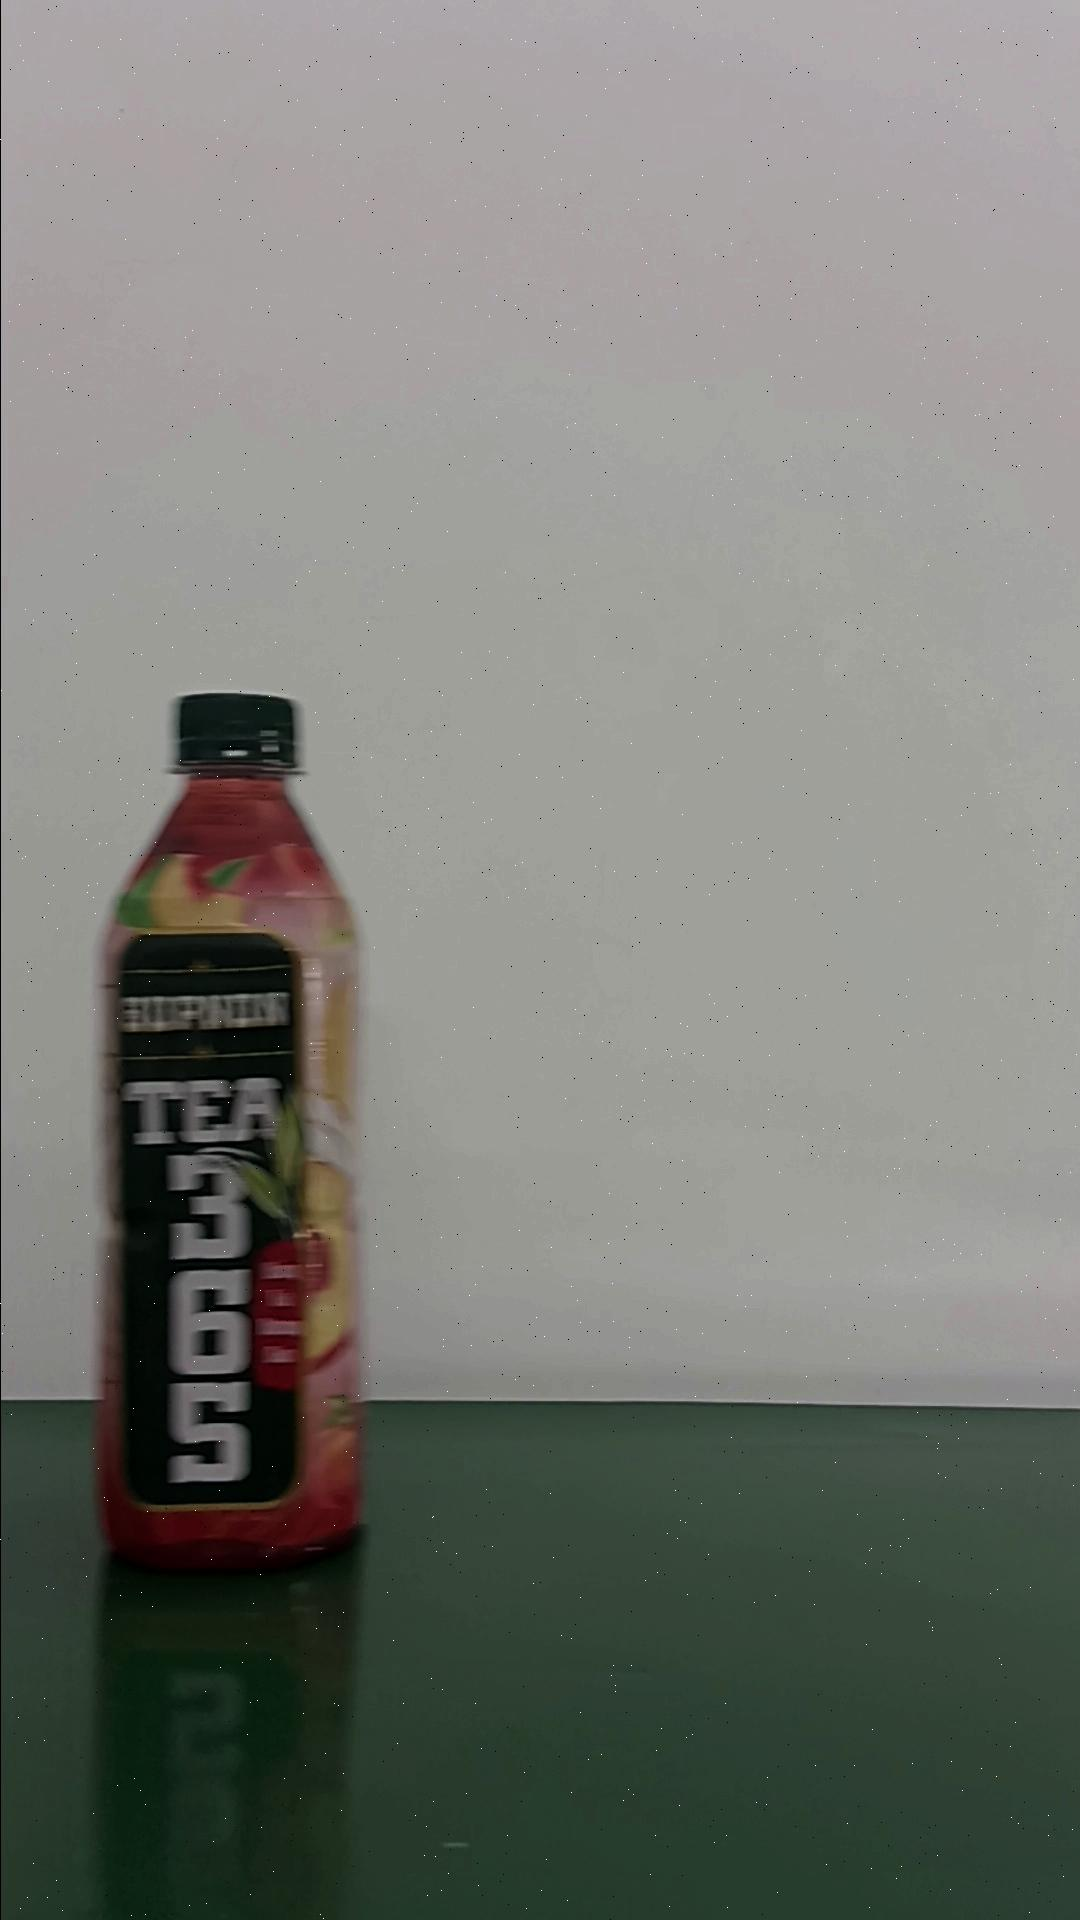khong loi: (94, 688, 367, 1573)
